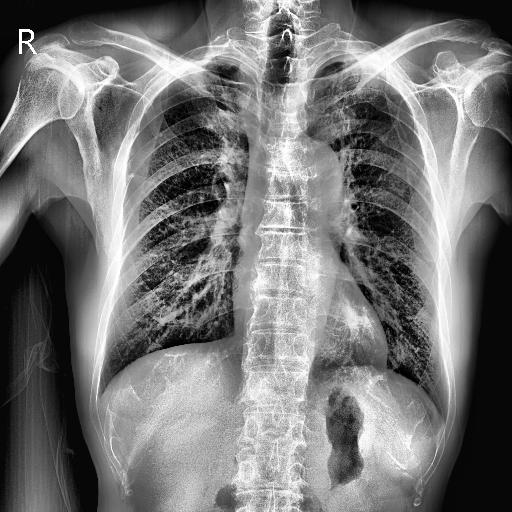0- Aortic enlargement: (284, 136, 348, 216), (290, 141, 343, 209), (291, 139, 344, 198)
11- Pleural thickening: (315, 50, 397, 86), (316, 49, 378, 72), (178, 54, 234, 74), (218, 55, 256, 76)
